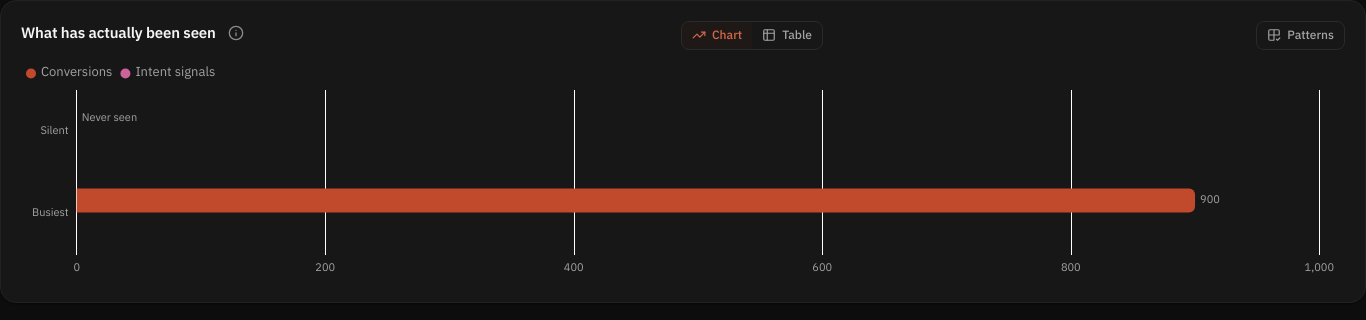
what has actually been seen › puts the findings first
The image size is (1366, 320).
Click the button "Table" at (787, 35), box [752,22,822,49]
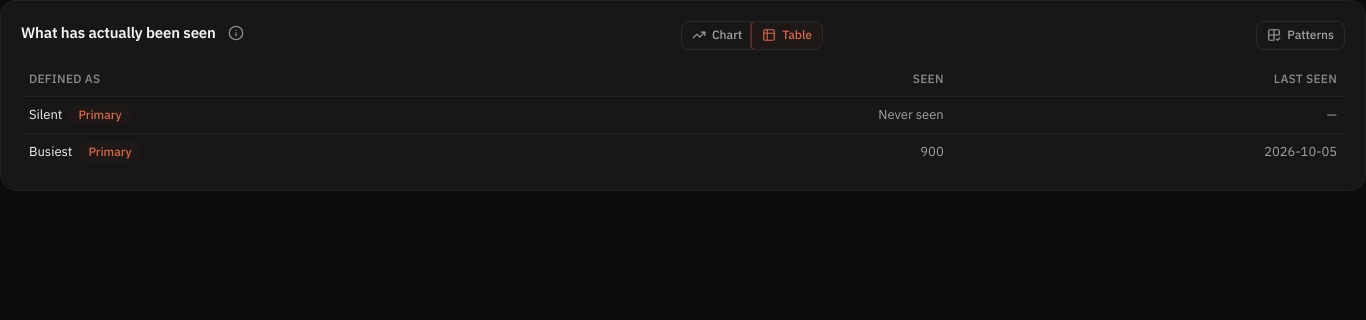
Result: the row "Silent Primary Never seen —" is shown at [21,97,1345,134]
